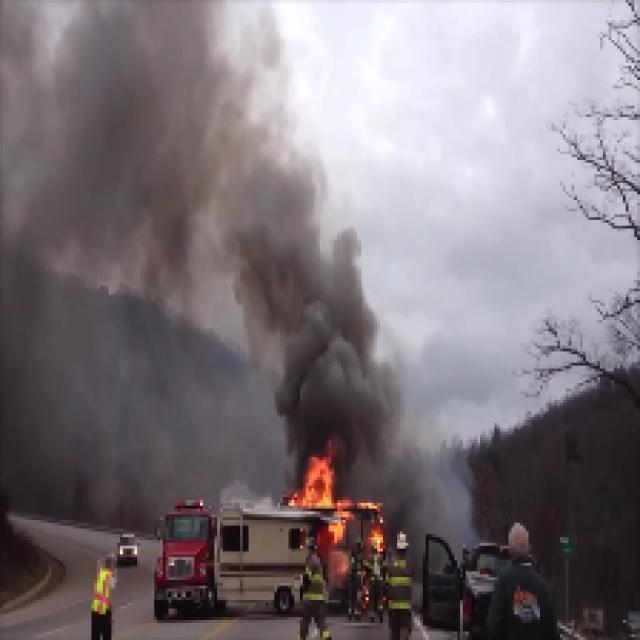fire: (292, 458, 340, 514)
smoke: (3, 2, 319, 300), (256, 303, 396, 448)
